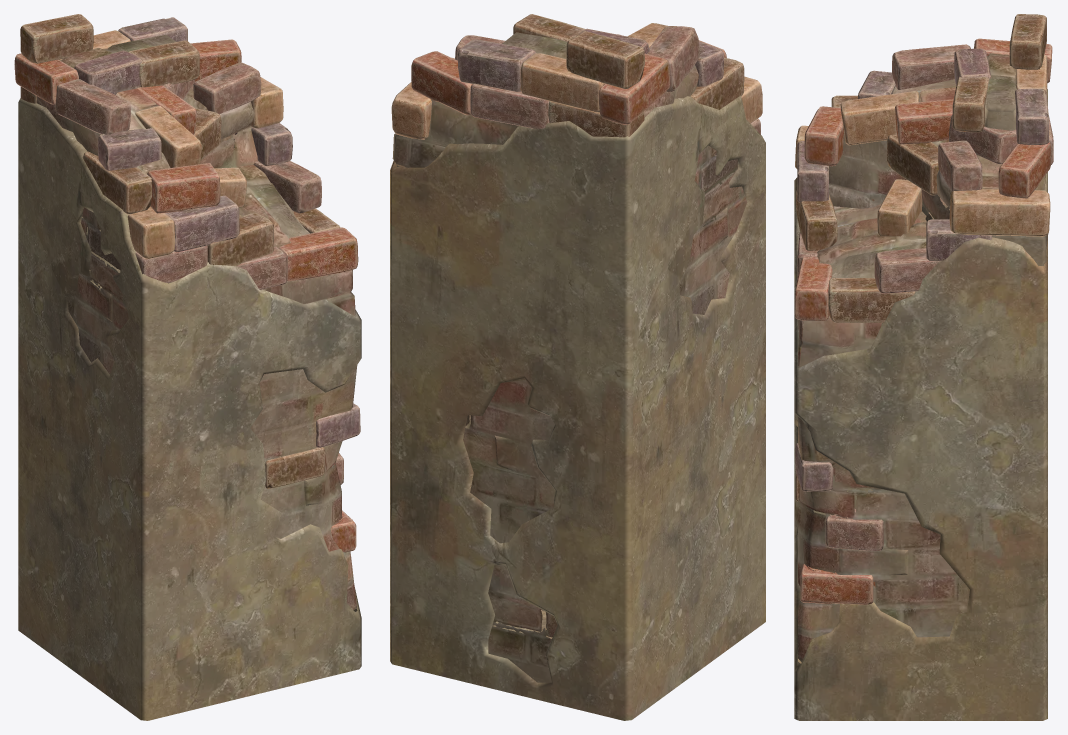
3 views of the same model, side by side, from view 1: azimuth 30°, elevation 25°; view 2: azimuth 150°, elevation 25°; view 3: azimuth 270°, elevation 25° (orthographic). The views are drawn at different scales.
Parts seen in each view (by area): view 1: SM_Human_Ruins_Pllar_Dmg_02_LOD0; view 2: SM_Human_Ruins_Pllar_Dmg_02_LOD0; view 3: SM_Human_Ruins_Pllar_Dmg_02_LOD0.
Boxes of the visible parts, x1,y1,x2,y2 form: SM_Human_Ruins_Pllar_Dmg_02_LOD0: (14,14,361,720); SM_Human_Ruins_Pllar_Dmg_02_LOD0: (390,14,765,720); SM_Human_Ruins_Pllar_Dmg_02_LOD0: (794,14,1053,720).
Bounding box in the file's own units: 1.03 × 2.61 × 1.02.
3 materials, 3 textured.
